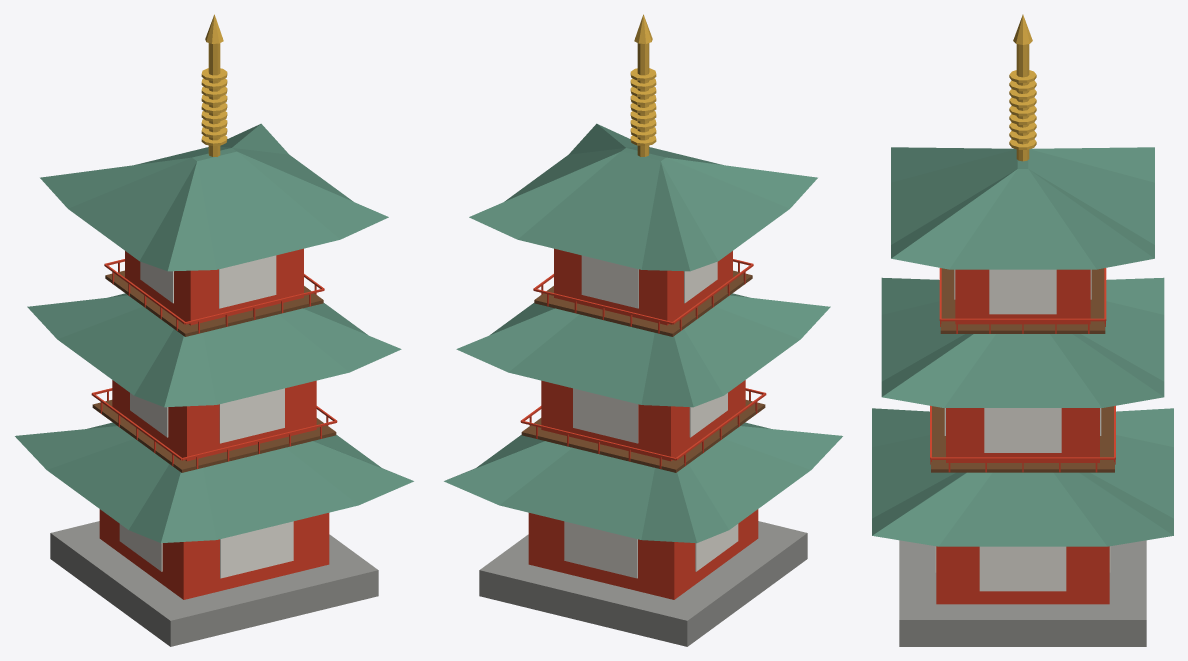
File: pagod3.glb
The picture shows the model from 3 angles, left to right: view 1: azimuth 30°, elevation 25°; view 2: azimuth 150°, elevation 25°; view 3: azimuth 270°, elevation 25°; orthographic projection. The views are drawn at different scales.
Visible parts, largest first — view 1: pagod3; view 2: pagod3; view 3: pagod3.
Boxes of the visible parts, x1,y1,x2,y2 form: pagod3: [15, 14, 413, 646]; pagod3: [444, 14, 842, 646]; pagod3: [872, 14, 1173, 646].
Bounding box in the file's own units: 12.2 × 25.9 × 12.2.
